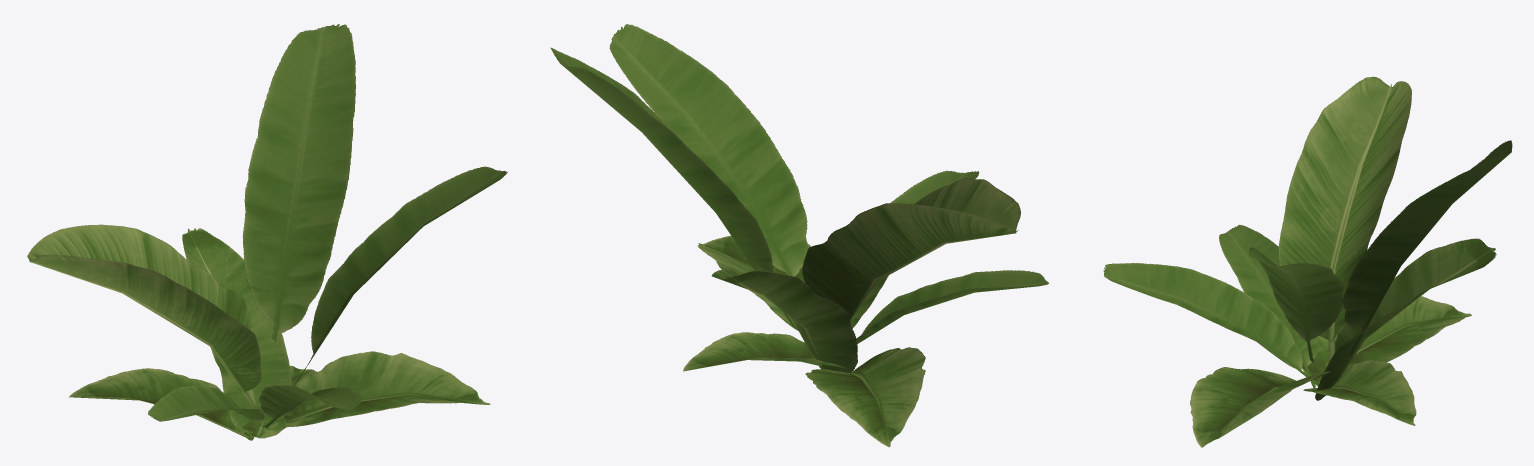
The model's file is BananaLeafBig.fbx.
3 renders of one model, left to right at view 1: azimuth 30°, elevation 25°; view 2: azimuth 150°, elevation 25°; view 3: azimuth 270°, elevation 25°, orthographic. The views are drawn at different scales.
Visible parts, largest first — view 1: BananaLeafBig; view 2: BananaLeafBig; view 3: BananaLeafBig.
Boxes of the visible parts, x1,y1,x2,y2 form: BananaLeafBig: (27, 24, 507, 440); BananaLeafBig: (550, 24, 1048, 447); BananaLeafBig: (1103, 76, 1512, 447).
Bounding box in the file's own units: 342 × 240 × 272.
